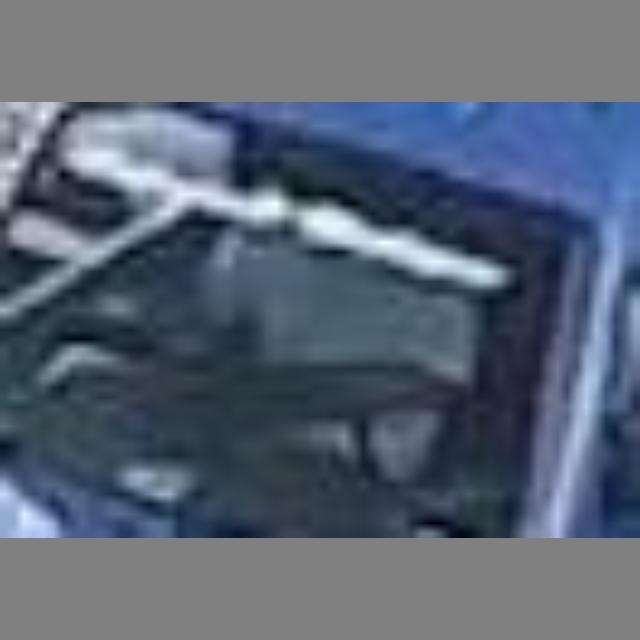tidak-pakai: (165, 189, 456, 451)
